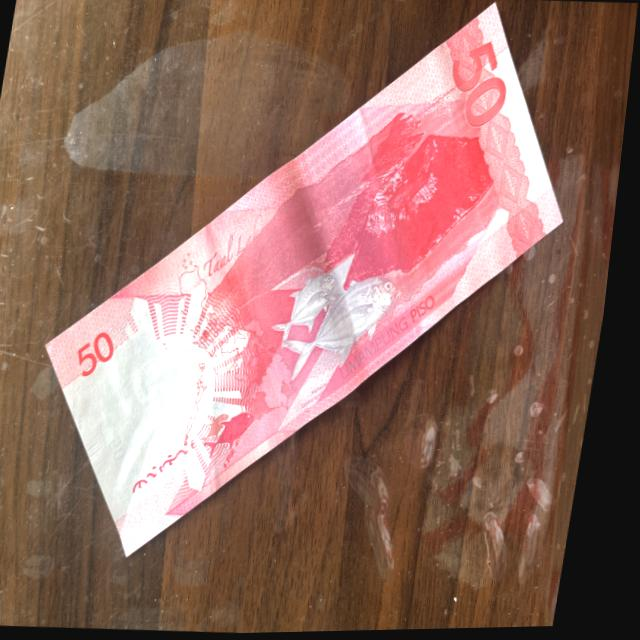50_maliputo: (265, 239, 421, 395)
50_maliputo_watermark: (202, 387, 279, 465)
value_watermark: (104, 420, 143, 461)
watermark: (97, 340, 192, 477)
